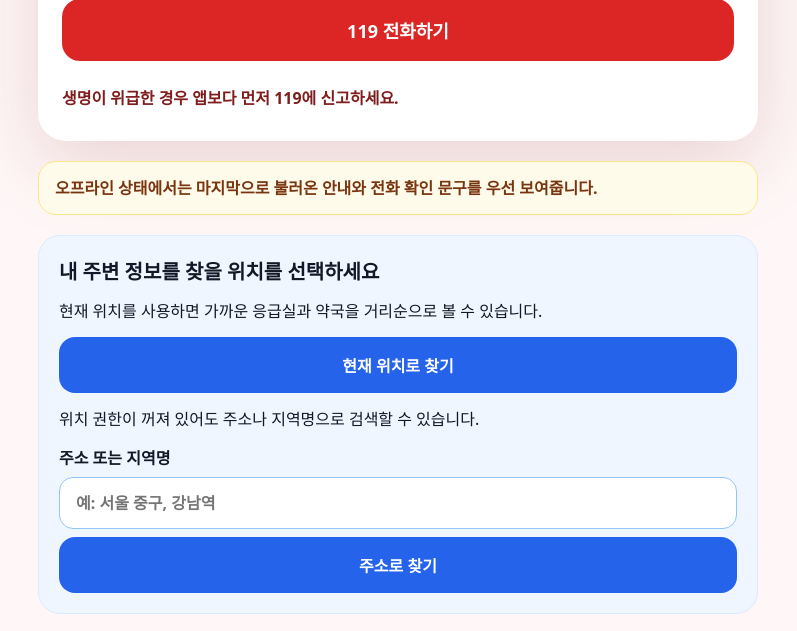
Scenario: 오늘응급 검색 흐름 › shows a permission guidance message when current location cannot be read
(page scrolled)
Click the button "현재 위치로 찾기" at (398, 365), box top-left (59, 337), bottom-right (737, 393)
(page scrolled)
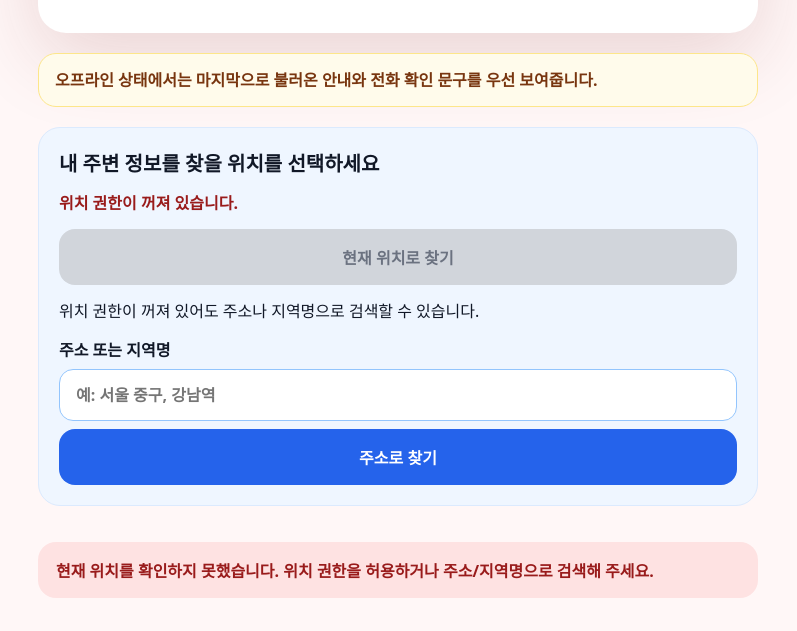
Expected: the text "현재 위치를 확인하지 못했습니다. 위치 권한을 허용하거나 주소/지역명으로 검색해 주세요." is shown, top-left (38, 542), bottom-right (758, 598)
